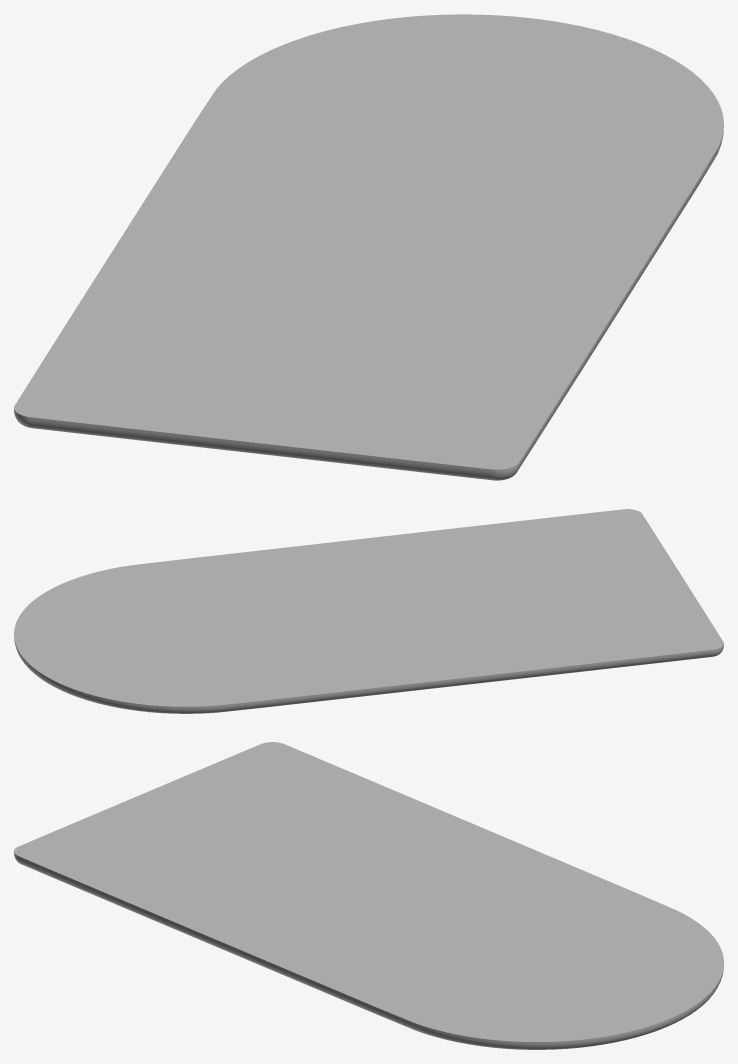
The model's file is diningtable_0203_top.glb.
3 renders of one model, top to bottom at view 1: azimuth 30°, elevation 25°; view 2: azimuth 150°, elevation 25°; view 3: azimuth 270°, elevation 25°, orthographic. The views are drawn at different scales.
Parts seen in each view (by area): view 1: diningtable_0203_top; view 2: diningtable_0203_top; view 3: diningtable_0203_top.
Part boxes in pixels (box(x1,y1,x2,y2)): diningtable_0203_top: box(14, 14, 723, 480); diningtable_0203_top: box(14, 509, 723, 713); diningtable_0203_top: box(14, 742, 723, 1049).
Bounding box in the file's own units: 1.51 × 0.0242 × 1.51.
1 material, 1 textured.
